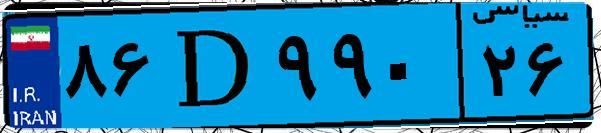0: (385, 28, 445, 110)
2: (475, 38, 525, 113)
6: (525, 38, 570, 115), (110, 28, 158, 98)
8: (57, 26, 110, 100)
9: (270, 28, 330, 110), (330, 28, 385, 110)
D: (158, 12, 270, 120)
